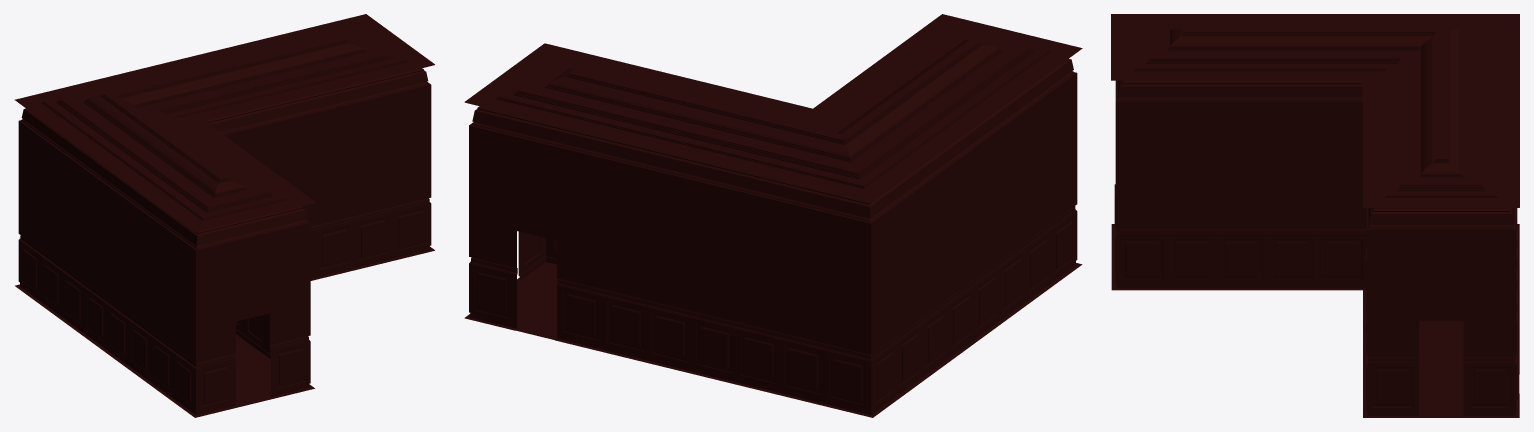
File: 4door_1.FBX
3 renders of one model, left to right at view 1: azimuth 30°, elevation 25°; view 2: azimuth 150°, elevation 25°; view 3: azimuth 270°, elevation 25°, orthographic. The views are drawn at different scales.
Visible parts, largest first — view 1: walls, ceiling, floor; view 2: walls, ceiling, floor; view 3: walls, ceiling, floor.
Part boxes in pixels (<box>): walls: <box>15,14,434,415</box>; ceiling: <box>19,21,434,232</box>; floor: <box>15,247,434,417</box>; walls: <box>464,14,1081,417</box>; ceiling: <box>467,14,1082,201</box>; floor: <box>465,262,1082,417</box>; walls: <box>1112,14,1519,417</box>; ceiling: <box>1111,14,1519,207</box>; floor: <box>1111,224,1519,417</box>.
Size of the model in its own units: 351 by 313 by 192.
